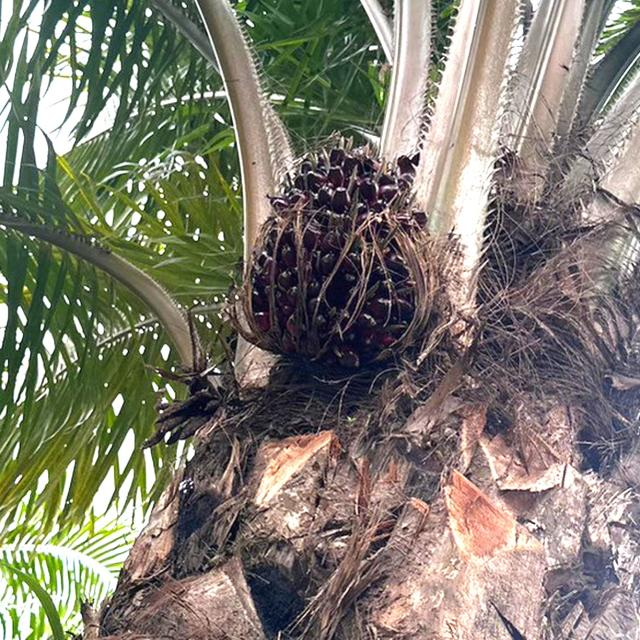ripe: (227, 128, 439, 383)
